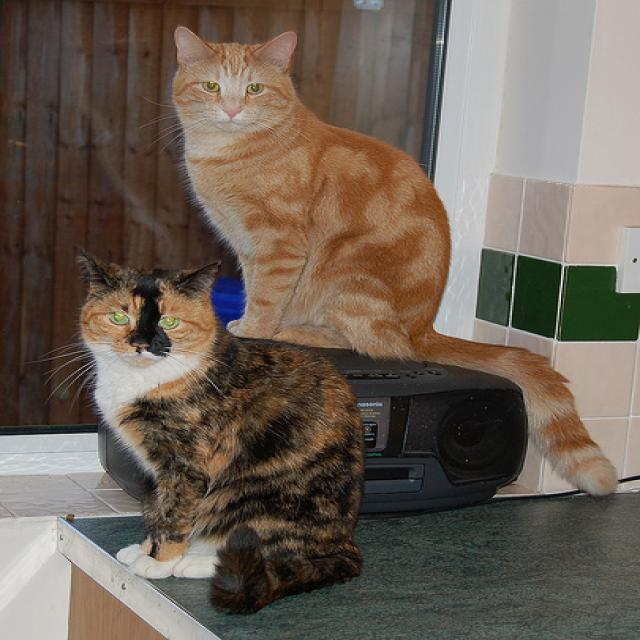cat: (156, 23, 627, 500), (60, 233, 379, 618)
